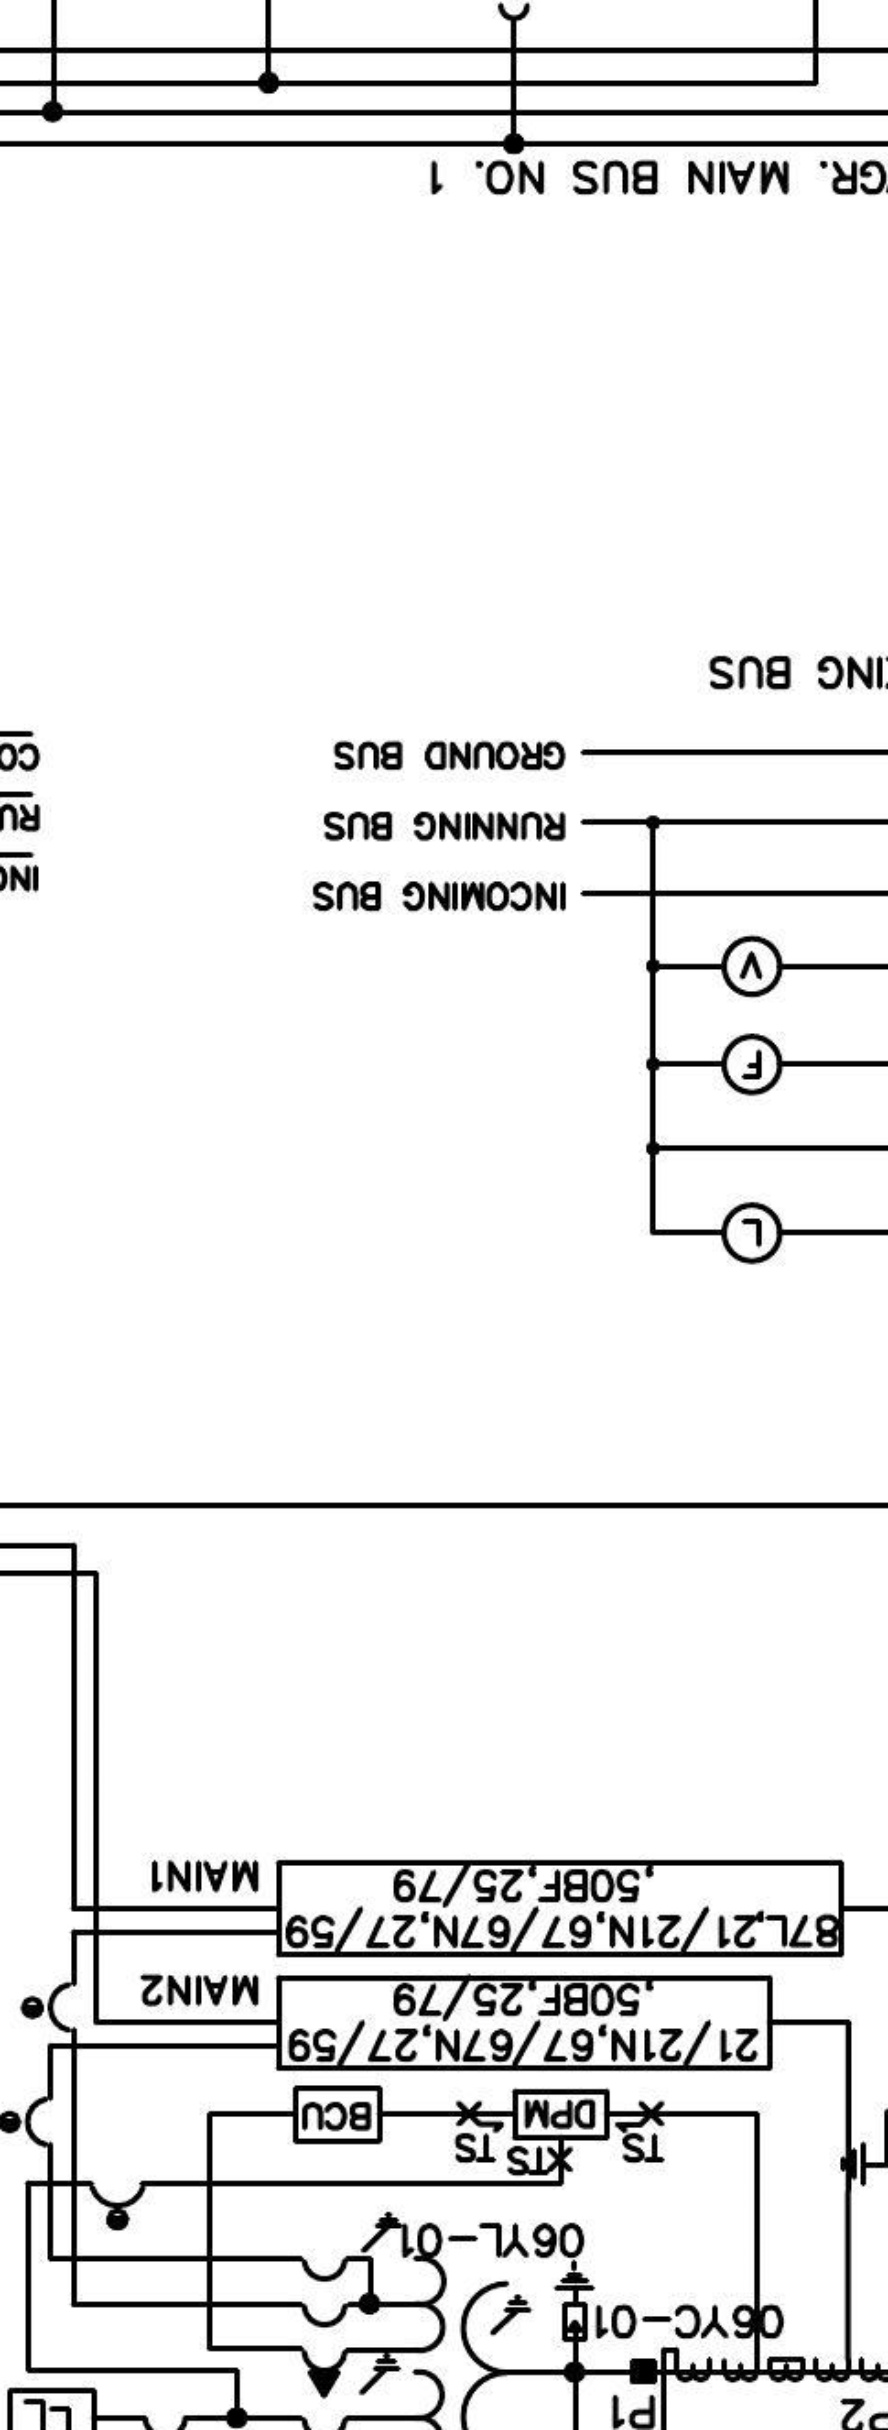115_la: (553, 2258, 597, 2343)
BCU: (291, 2084, 384, 2145)
DPM: (511, 2088, 611, 2142)
